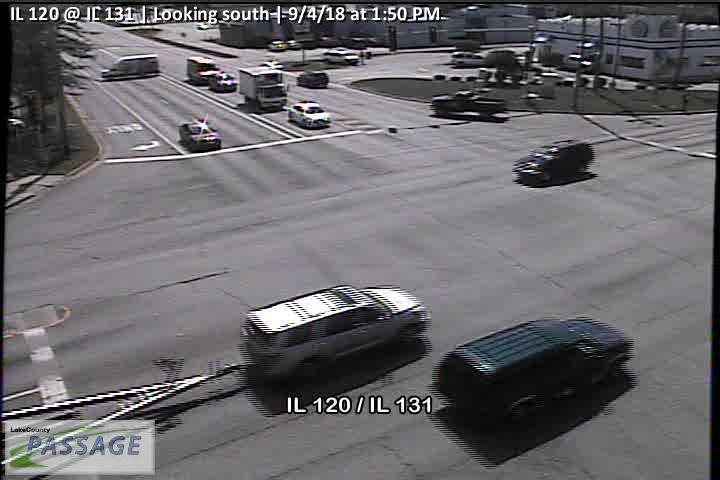SUV: (431, 317, 631, 429), (240, 285, 430, 384), (512, 138, 593, 185), (179, 121, 221, 153), (288, 100, 331, 128), (296, 71, 330, 89), (450, 52, 485, 67)
Sedan: (321, 48, 360, 65), (207, 73, 237, 92)
Truck: (238, 67, 290, 109), (431, 89, 505, 116), (101, 55, 160, 78), (186, 56, 221, 84)
